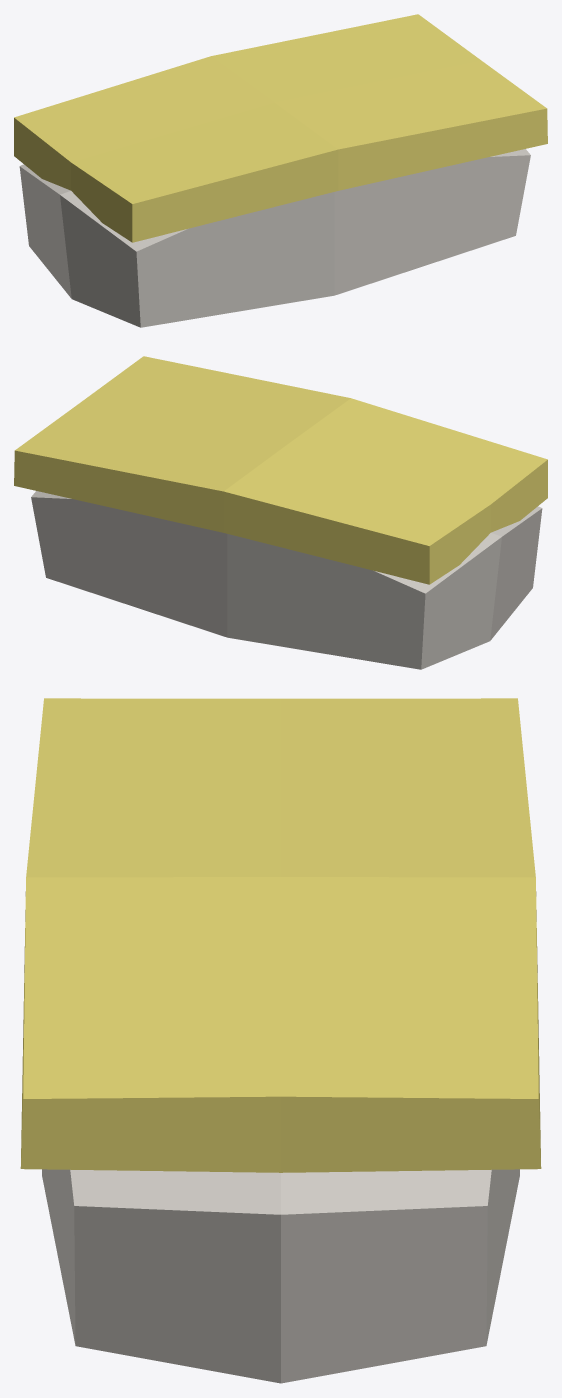
The model's file is niguiriTamago.fbx.
3 views of the same model, one above another, from view 1: azimuth 30°, elevation 25°; view 2: azimuth 150°, elevation 25°; view 3: azimuth 270°, elevation 25° (orthographic). The views are drawn at different scales.
Visible parts, largest first — view 1: niguiriTamago; view 2: niguiriTamago; view 3: niguiriTamago.
Part boxes in pixels (box(x1,y1,x2,y2)): niguiriTamago: box(14, 14, 547, 327); niguiriTamago: box(14, 356, 547, 669); niguiriTamago: box(20, 698, 541, 1383).
Bounding box in the file's own units: 10.16 × 3.34 × 5.27.
Materials: 1 (1 with a texture image).
